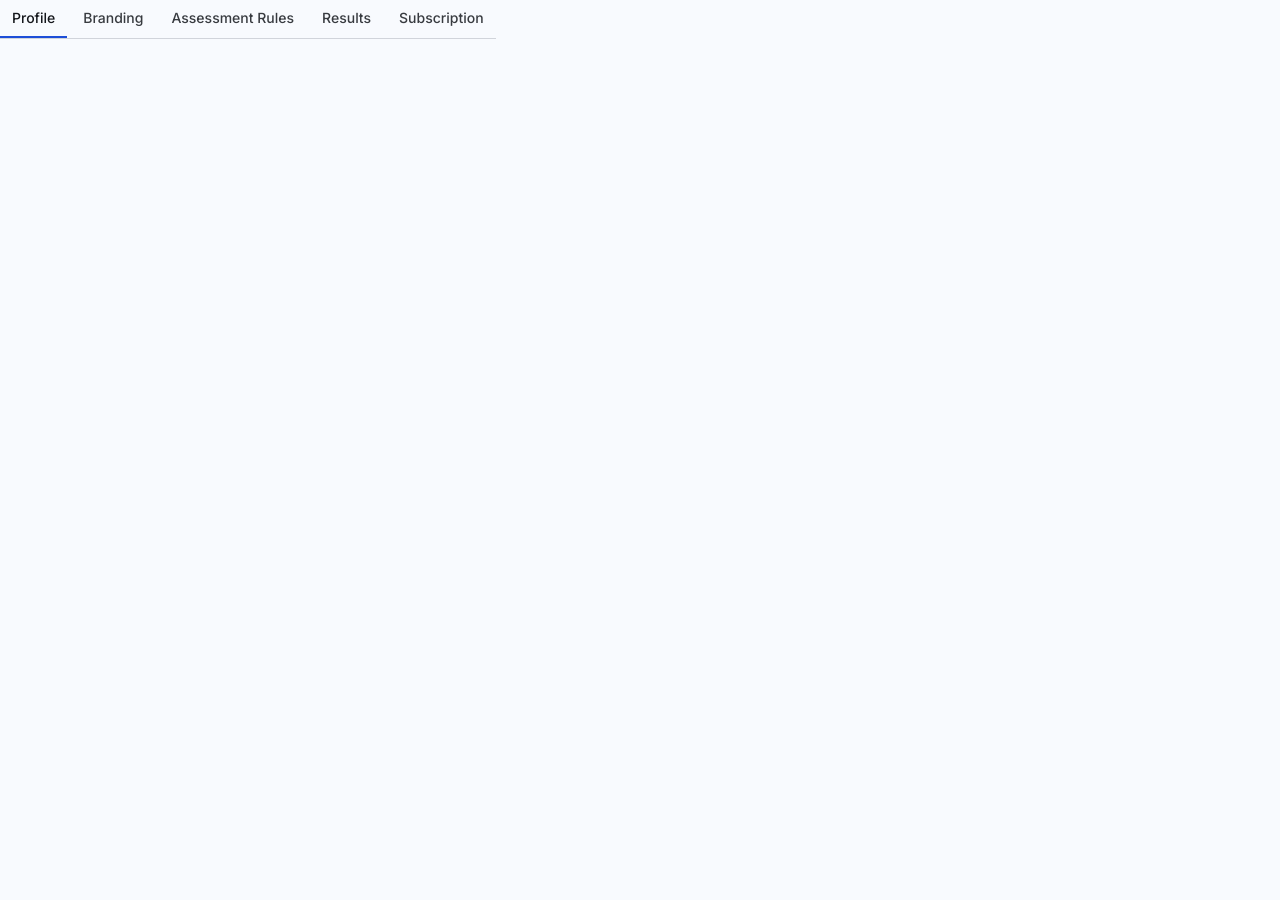
SchoolSettingsTabs › stays on the page when the dialog is cancelled
The image size is (1280, 900).
Click the link "Results": point(347, 18) [322,9,371,26]
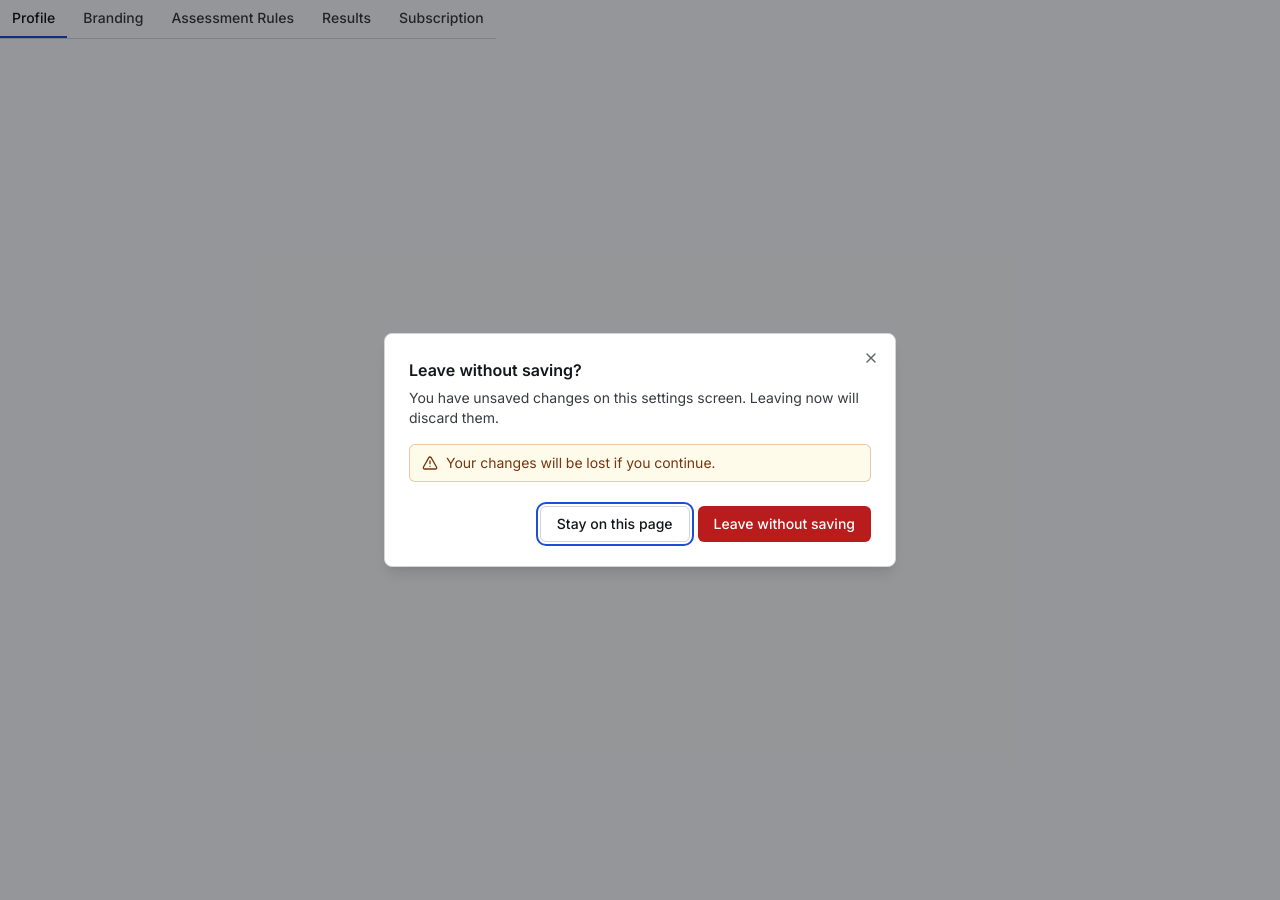
Click the button "Stay on this page": point(615, 524) [540,506,690,542]
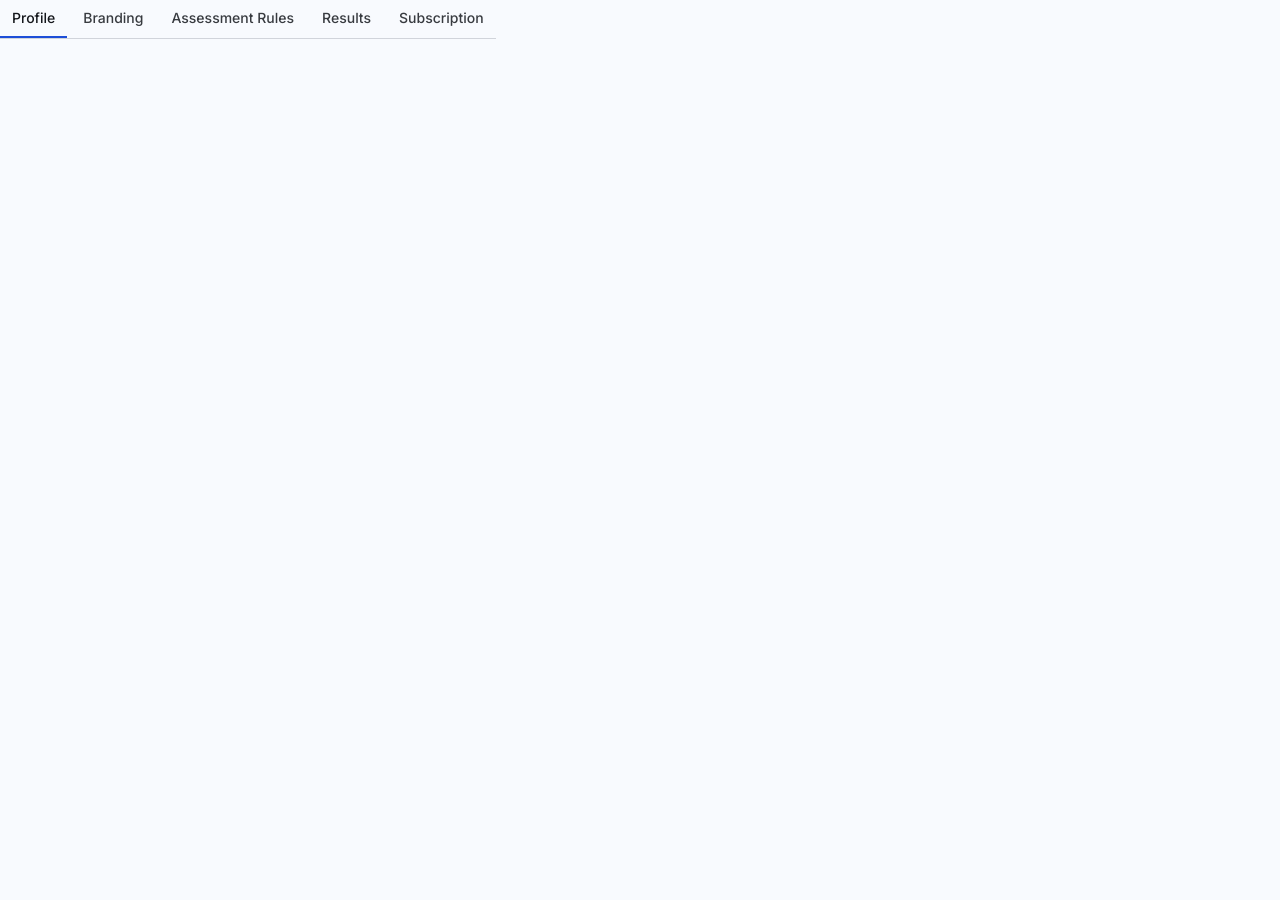
Expected: the heading "Leave without saving?" is gone
